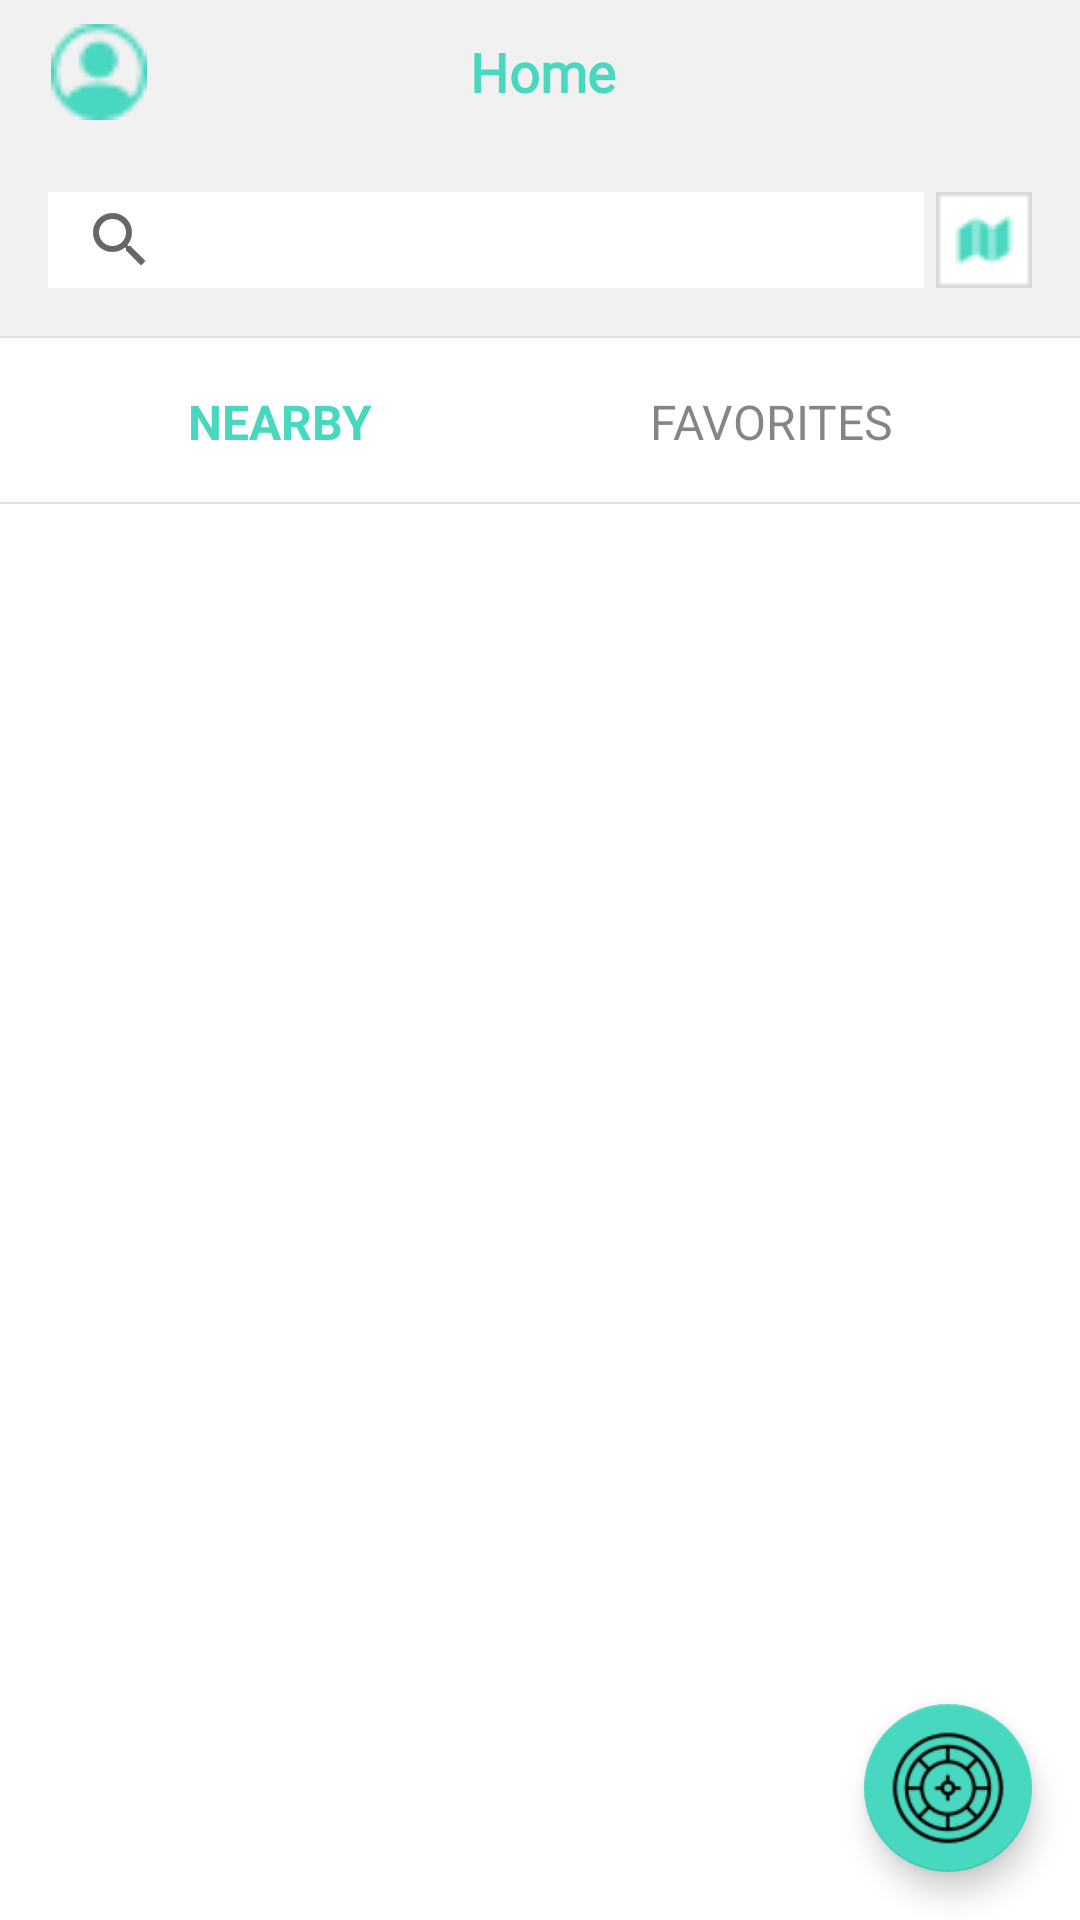

Icons on this 1080x1920 Android screen, each with its box as (x1, y1, x2, y2):
map view: (956, 217, 1012, 264)
profile: (51, 24, 147, 120)
wheel: (864, 1704, 1032, 1872)
